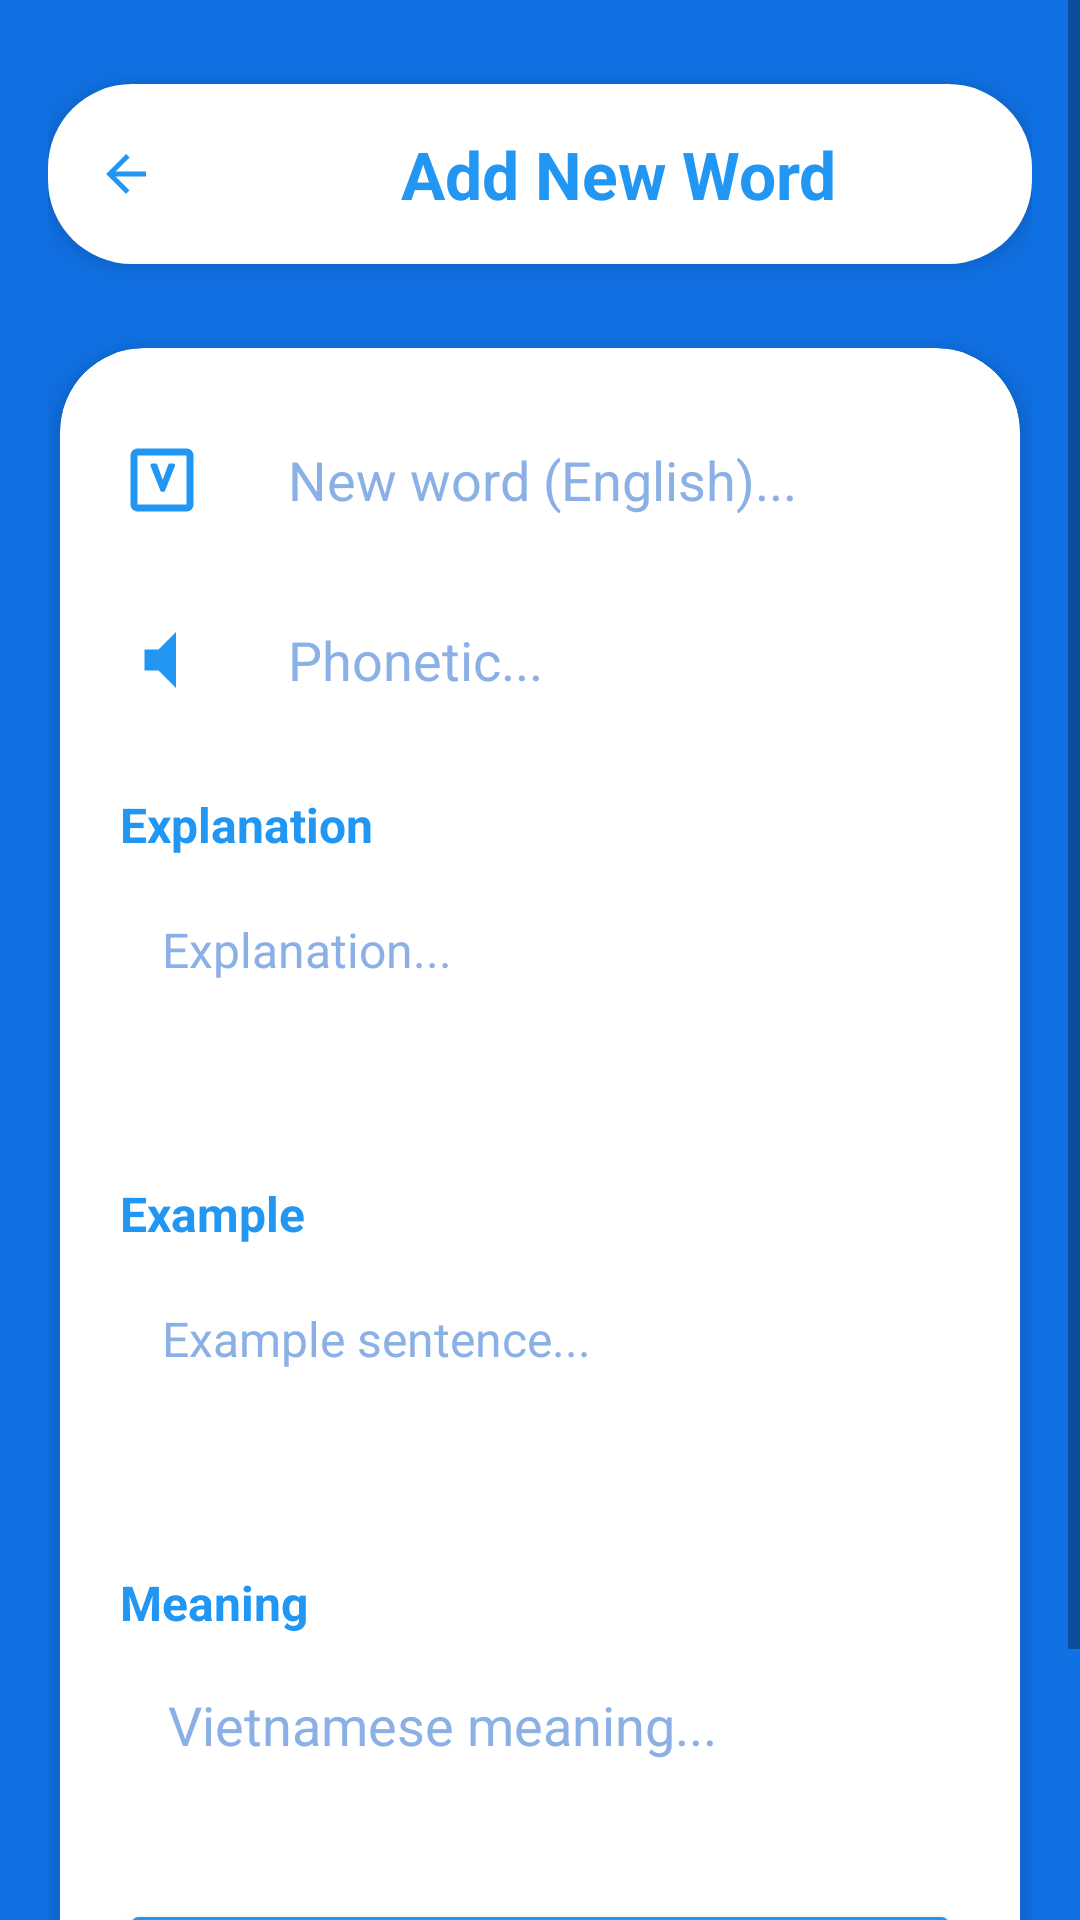

Icon bounding boxes for this 1080 x 1920 phone screenshot, format (x1, y1, x2, y2):
Back: (106, 154, 146, 194)
